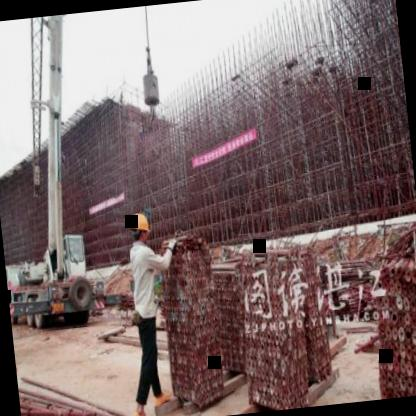helmet: (127, 210, 152, 245)
